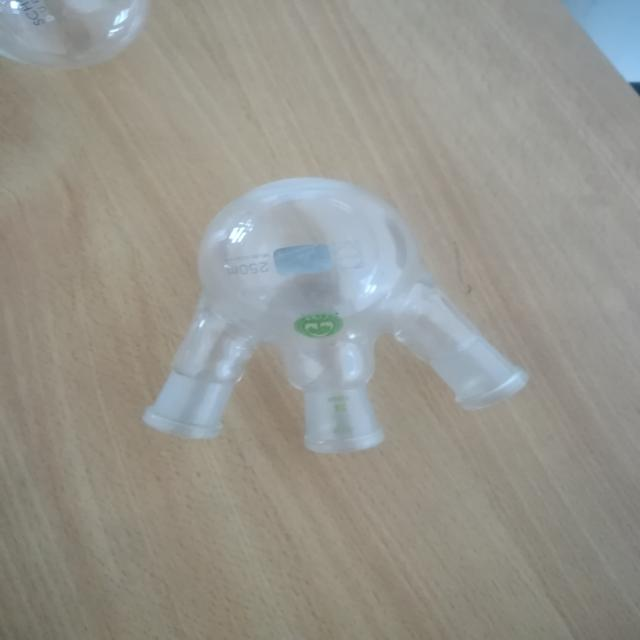Round_Bottom_Flask_Borosilicate_Glass_3_Neck: (125, 150, 556, 490)
